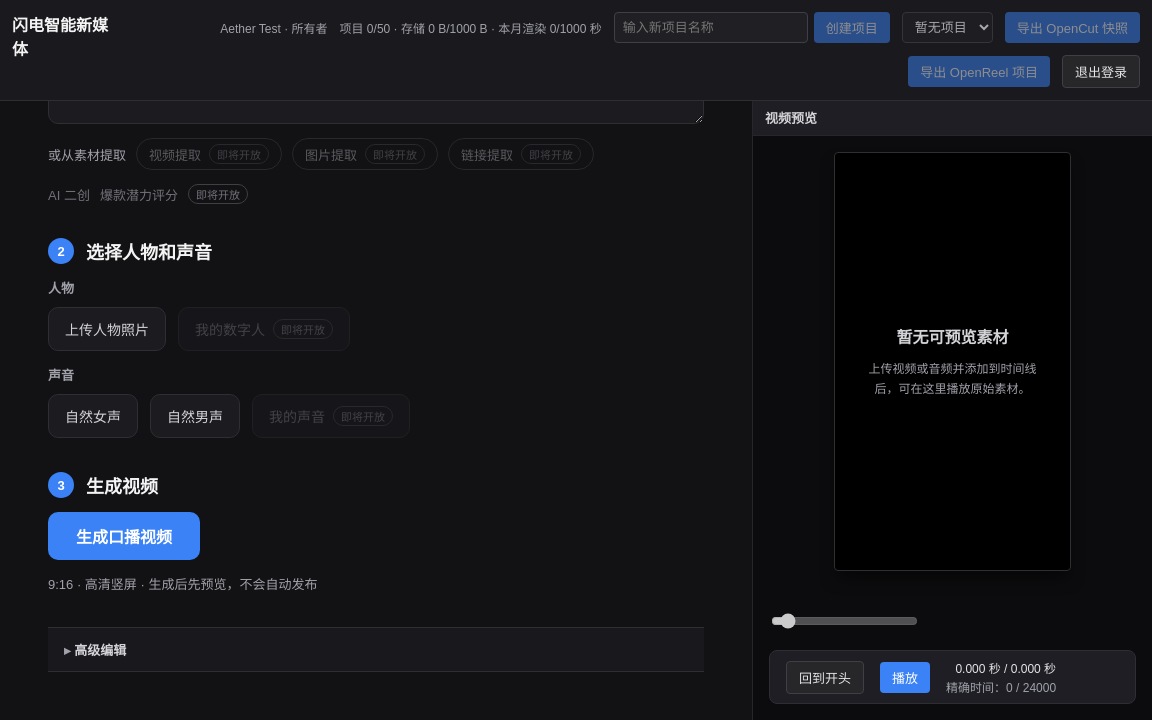
Test: Aether Studio 中文工作台 › renders all workbench regions and uses same-origin API/SSE paths
(page scrolled)
Expected: the text "视频预览" is shown, [753,101,1151,136]
Expected: the heading "选择人物和声音" is shown, [86,238,212,264]
Click the heading "高级编辑".
click(100, 650)  # box [48,628,704,672]
(page scrolled)
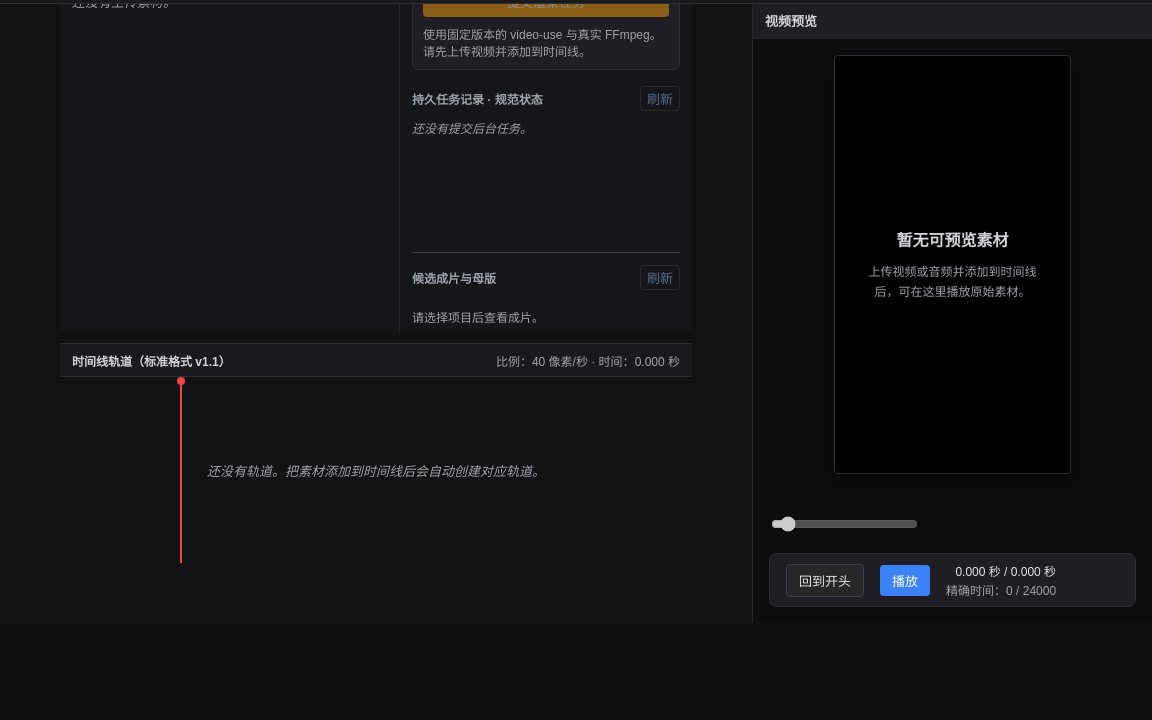
Now the text "时间线轨道（标准格式 v1.1）" is shown, box [72,352,231,368]
